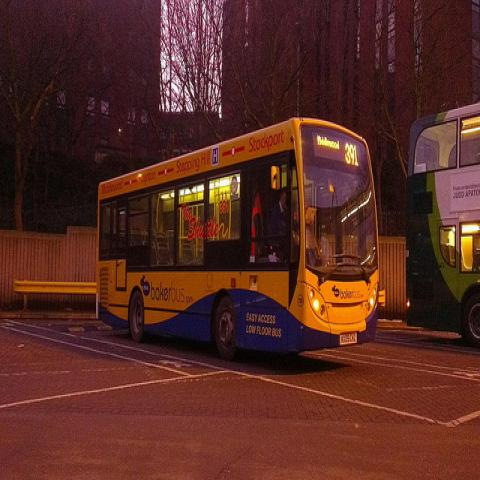bus: (95, 114, 378, 351), (406, 103, 479, 348)
